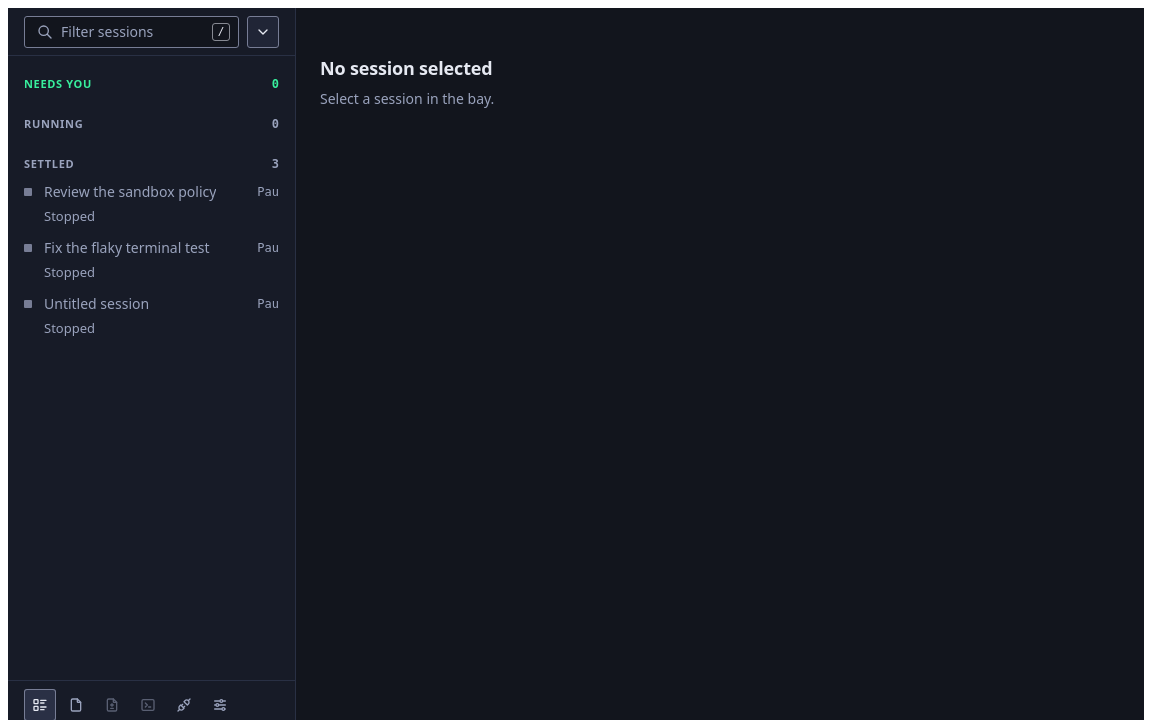
Scenario: opens from the rail and closes after a resume
This screenshot has width=1152, height=720.
Click the button named "More ways to start a session". click: (263, 32)
box: [247,16,279,48]
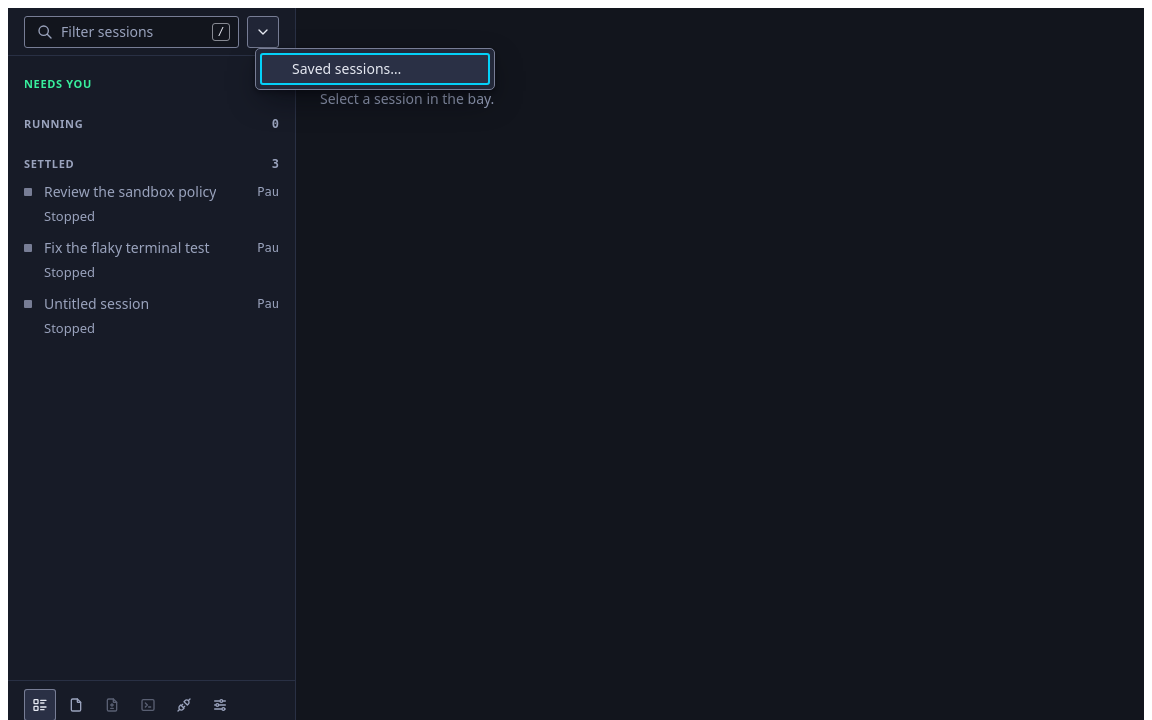
Click the menu item "Saved sessions…". click: (375, 69)
box: [260,53,490,85]
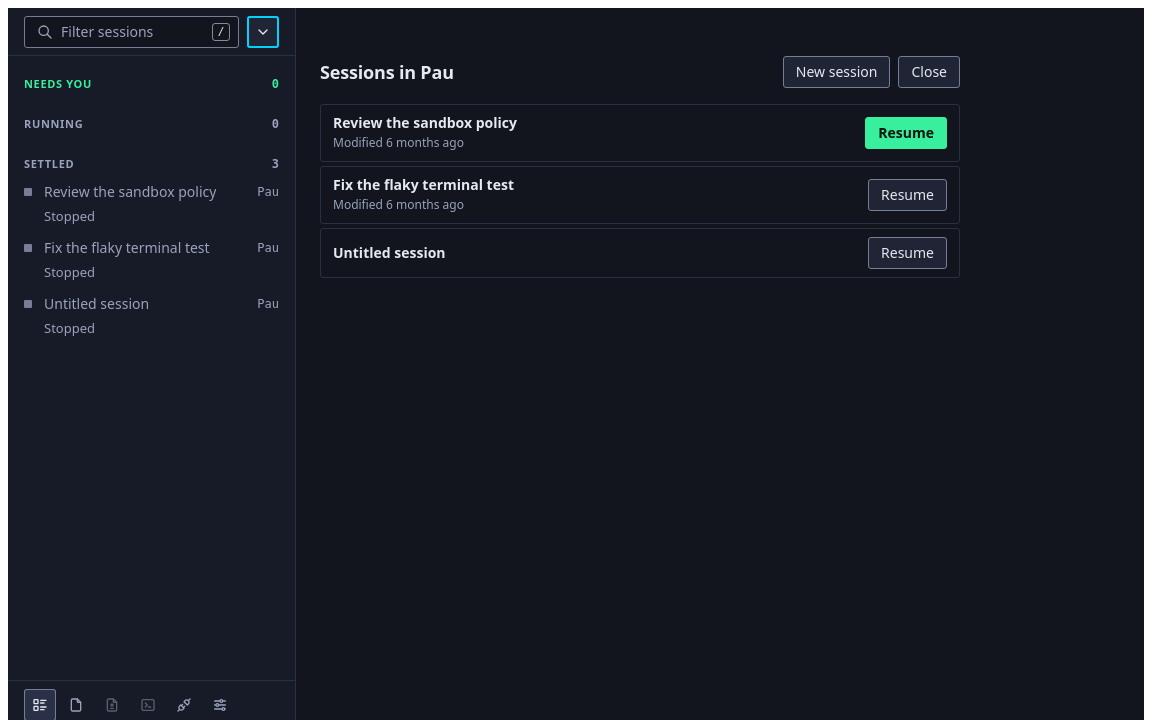
Click the button with aria-label "Resume Review the sandbox policy". click: (906, 133)
box: [865,117,947,149]
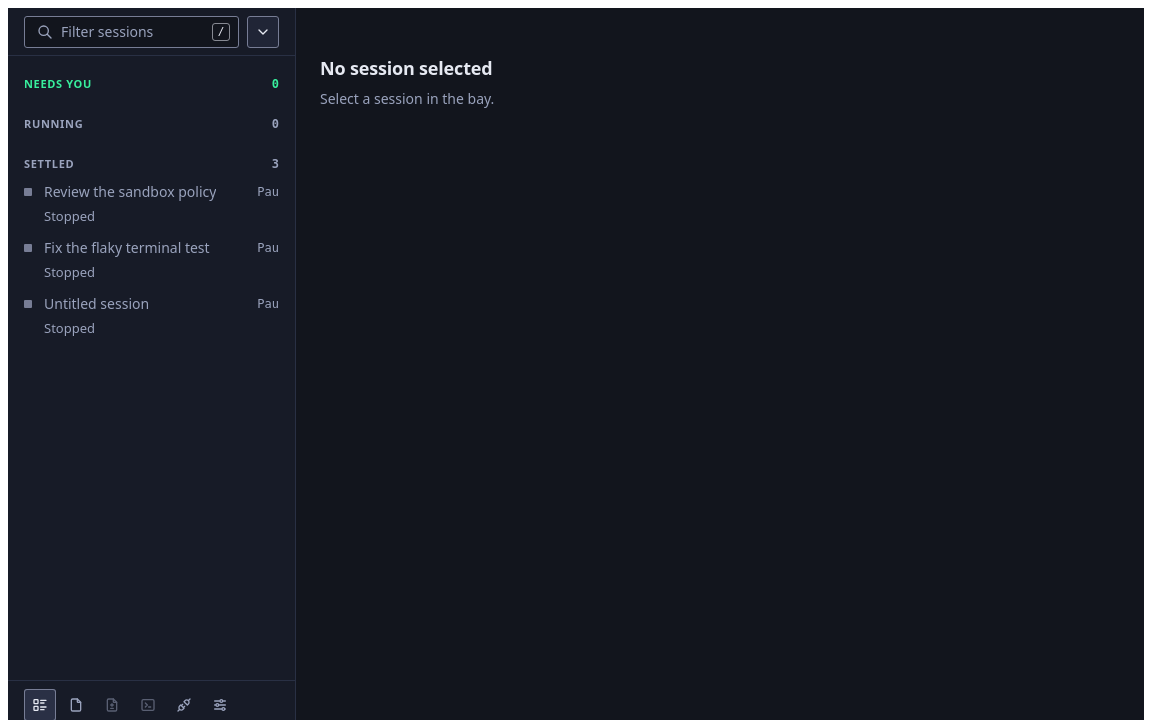
Result: the heading "No session selected" is shown at [320,56,492,80]
